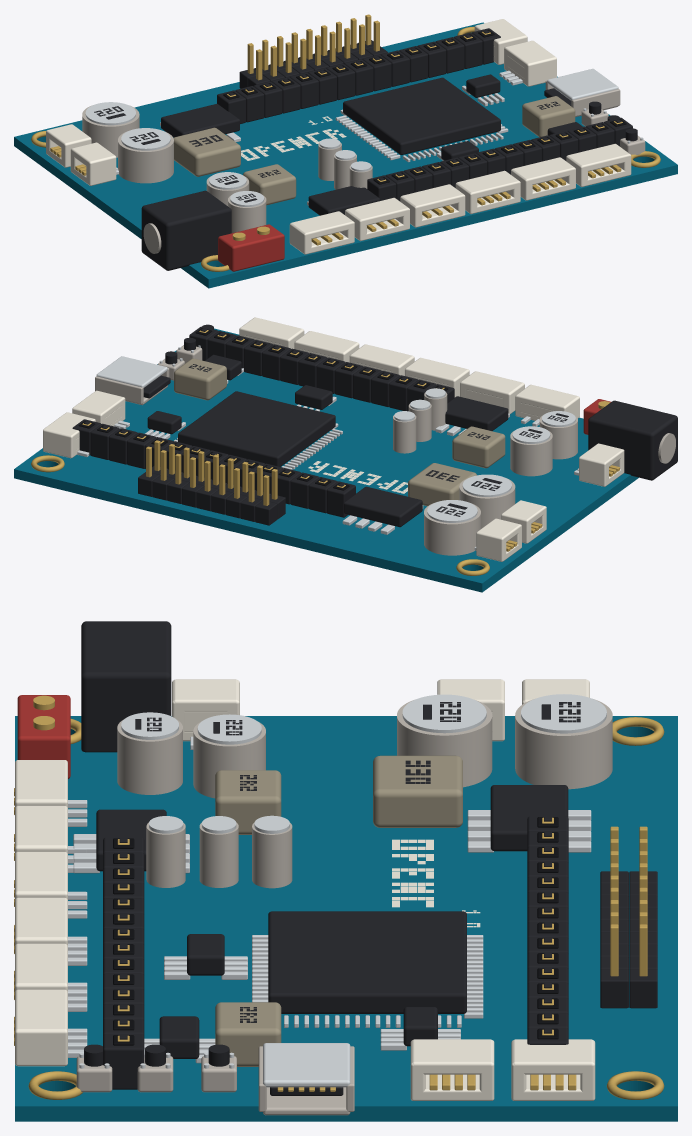
File: boards-25.glb
3 views of the same model, one above another, from view 1: azimuth 30°, elevation 25°; view 2: azimuth 150°, elevation 25°; view 3: azimuth 270°, elevation 25° (orthographic). The views are drawn at different scales.
Parts seen in each view (by area): view 1: pcb, headers, power, cpu, ttl, rs485, sockets, battery, usb, buttons; view 2: pcb, headers, power, cpu, sockets, ttl, rs485, usb, buttons; view 3: pcb, power, headers, cpu, sockets, rs485, ttl, usb, buttons, battery.
Part boxes in pixels (<box>): pcb: <box>14,22,677,288</box>; headers: <box>217,14,632,201</box>; power: <box>82,96,575,270</box>; cpu: <box>335,77,508,162</box>; ttl: <box>289,184,465,254</box>; rs485: <box>455,143,631,214</box>; sockets: <box>46,19,556,185</box>; battery: <box>218,224,284,271</box>; usb: <box>544,68,620,116</box>; buttons: <box>581,101,645,154</box>; pcb: <box>14,328,638,592</box>; headers: <box>72,326,454,525</box>; power: <box>174,358,677,555</box>; cpu: <box>174,391,342,469</box>; sockets: <box>43,390,624,561</box>; ttl: <box>404,357,579,426</box>; rs485: <box>239,317,414,375</box>; usb: <box>95,356,170,405</box>; buttons: <box>157,324,213,380</box>; pcb: <box>15,716,677,1121</box>; power: <box>81,621,612,1066</box>; headers: <box>103,816,657,1089</box>; cpu: <box>252,911,483,1027</box>; sockets: <box>172,679,595,1100</box>; rs485: <box>14,897,87,1066</box>; ttl: <box>14,760,87,918</box>; usb: <box>258,1043,354,1115</box>; buttons: <box>76,1044,236,1092</box>; battery: <box>17,695,70,778</box>.
Size of the model in its own units: 3.77 by 0.391 by 2.5.
